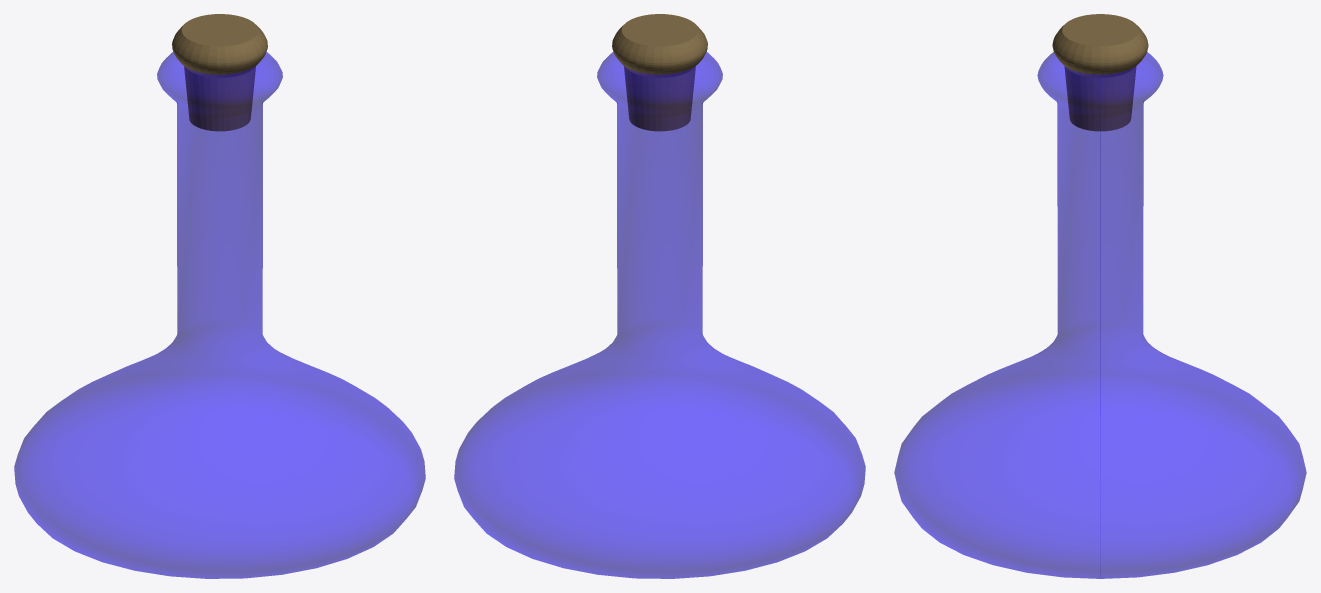
File: LabwareBeakerAndCork1.glb
3 views of the same model, side by side, from view 1: azimuth 30°, elevation 25°; view 2: azimuth 150°, elevation 25°; view 3: azimuth 270°, elevation 25° (orthographic).
Visible parts, largest first — view 1: Fat Flask, Cork; view 2: Fat Flask, Cork; view 3: Fat Flask, Cork.
Boxes of the visible parts, bbox=[...] form: Fat Flask: bbox=[14, 52, 425, 578]; Cork: bbox=[172, 14, 267, 131]; Fat Flask: bbox=[454, 52, 865, 578]; Cork: bbox=[612, 14, 707, 131]; Fat Flask: bbox=[894, 52, 1306, 578]; Cork: bbox=[1052, 14, 1148, 131].
Size of the model in its own units: 0.9302 by 1.16 by 0.9302.
